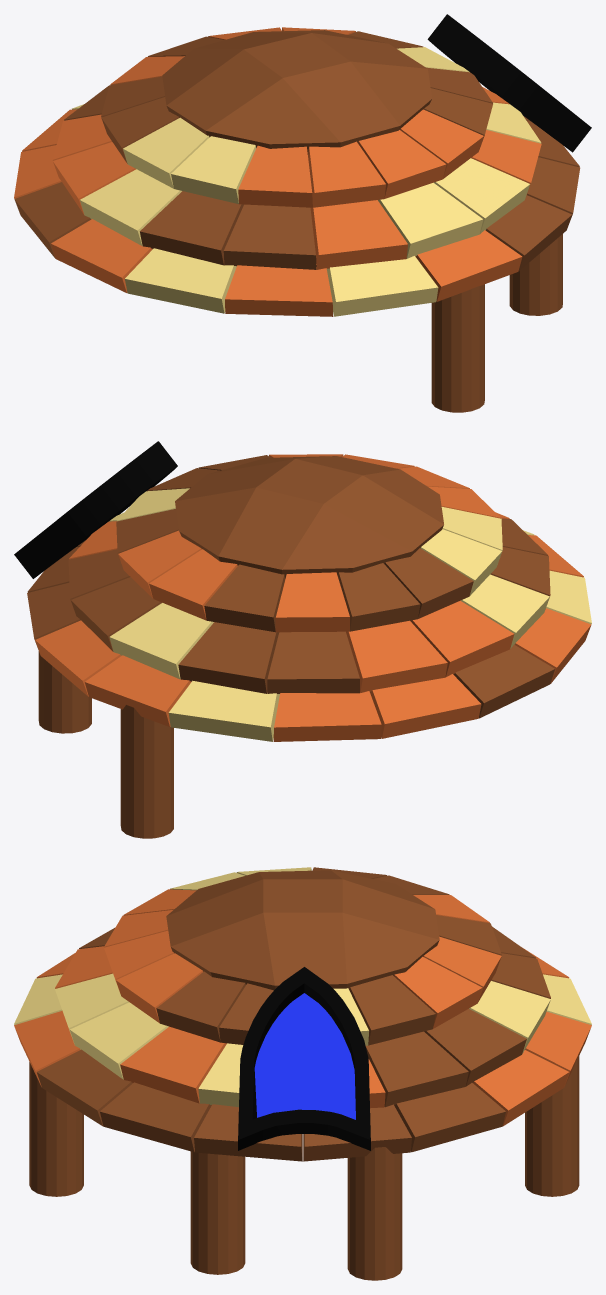
Rendered from ORStation.fbx.
The picture shows the model from 3 angles, top to bottom: view 1: azimuth 30°, elevation 25°; view 2: azimuth 150°, elevation 25°; view 3: azimuth 270°, elevation 25°; orthographic projection.
Parts seen in each view (by area): view 1: ORStation; view 2: ORStation; view 3: ORStation.
Boxes of the visible parts, x1,y1,x2,y2 form: ORStation: (14, 14, 591, 412); ORStation: (14, 441, 591, 838); ORStation: (14, 867, 591, 1280).
Size of the model in its own units: 1083 by 549 by 1050.
